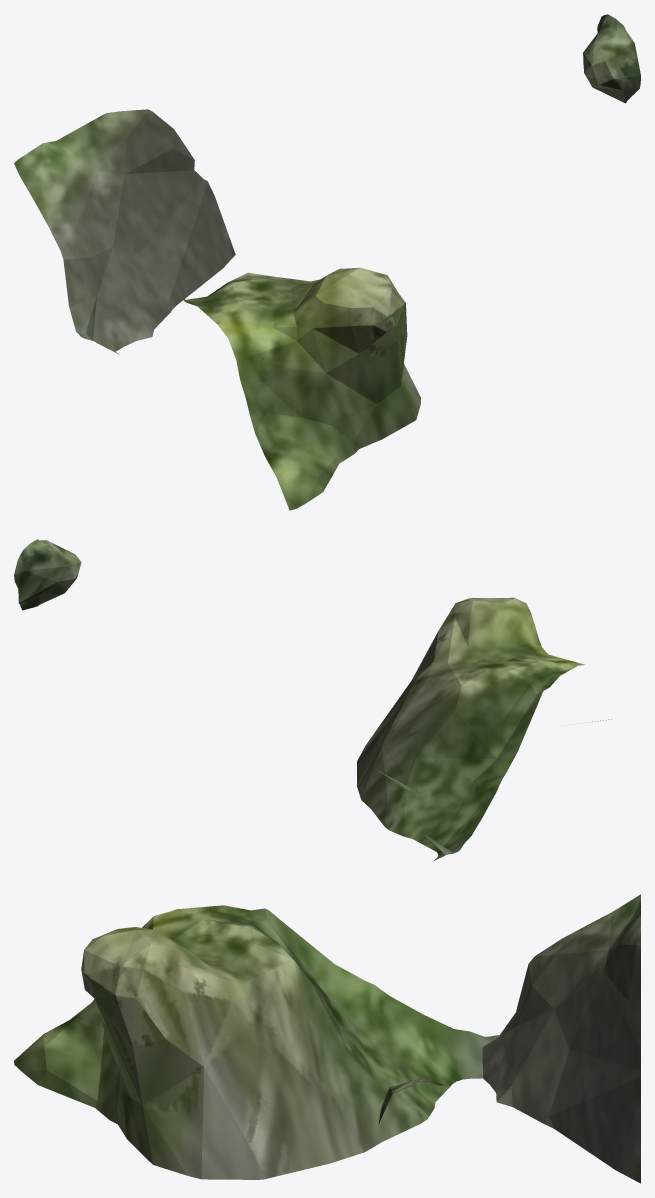
3 views of the same model, one above another, from view 1: azimuth 30°, elevation 25°; view 2: azimuth 150°, elevation 25°; view 3: azimuth 270°, elevation 25° (orthographic). The views are drawn at different scales.
Bounding box in the file's own units: 2.95 × 1.27 × 2.75.
Materials: 1 (1 with a texture image).
